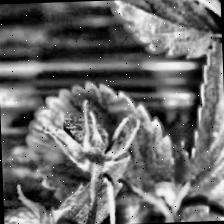Gray Mold: (43, 97, 140, 183)
